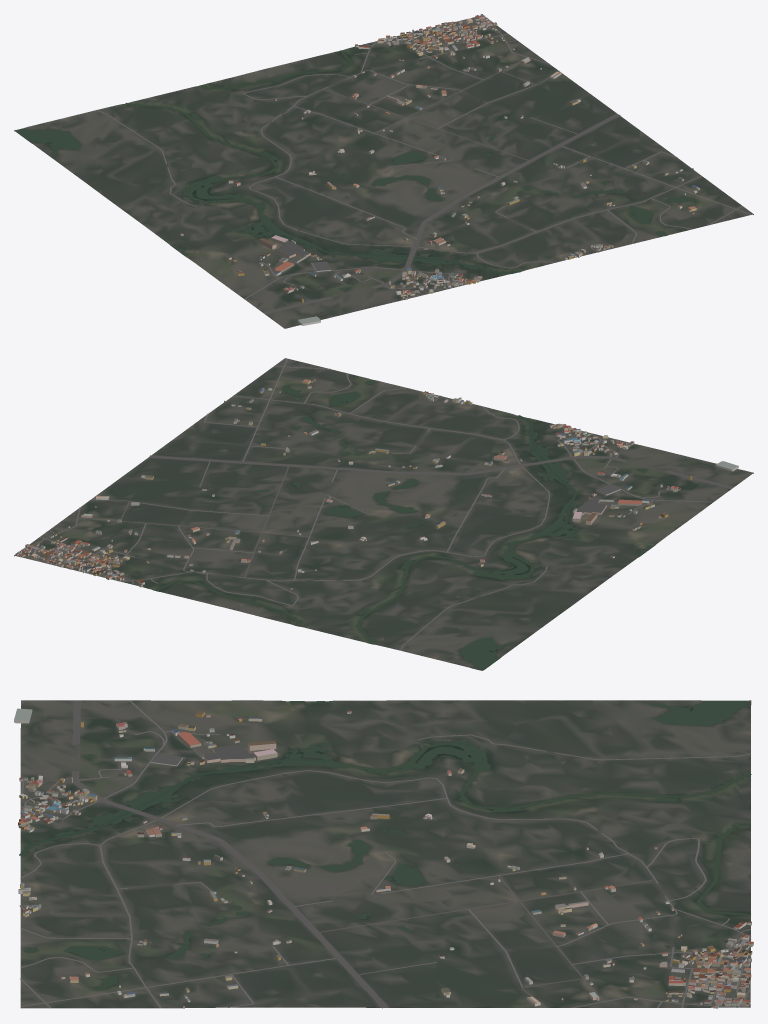
The picture shows the model from 3 angles, top to bottom: view 1: azimuth 30°, elevation 25°; view 2: azimuth 150°, elevation 25°; view 3: azimuth 270°, elevation 25°; orthographic projection. The views are drawn at different scales.
Visible parts, largest first — view 1: ground, buildings, roads, water; view 2: ground, buildings, roads, water; view 3: ground, buildings, water, roads.
Boxes of the visible parts, left/top/right/bottom form: ground: left=14, top=15, right=753, bottom=328; buildings: left=180, top=14, right=699, bottom=325; roads: left=96, top=18, right=751, bottom=314; water: left=16, top=50, right=698, bottom=290; ground: left=14, top=358, right=753, bottom=670; buildings: left=15, top=378, right=738, bottom=589; roads: left=19, top=358, right=733, bottom=650; water: left=155, top=380, right=653, bottom=669; ground: left=20, top=700, right=751, bottom=1008; buildings: left=14, top=708, right=753, bottom=1008; water: left=19, top=700, right=751, bottom=990; roads: left=19, top=700, right=751, bottom=1008.
Size of the model in its own units: 1405 by 15.76 by 1420.
